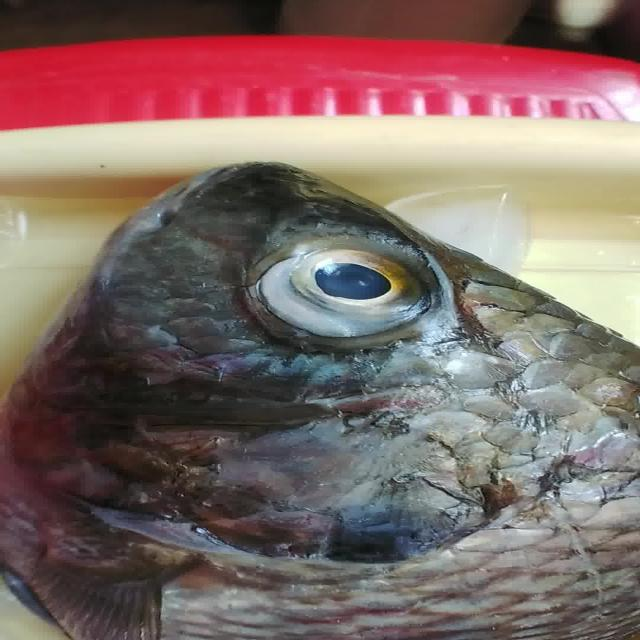Fresh: (206, 230, 472, 354)
